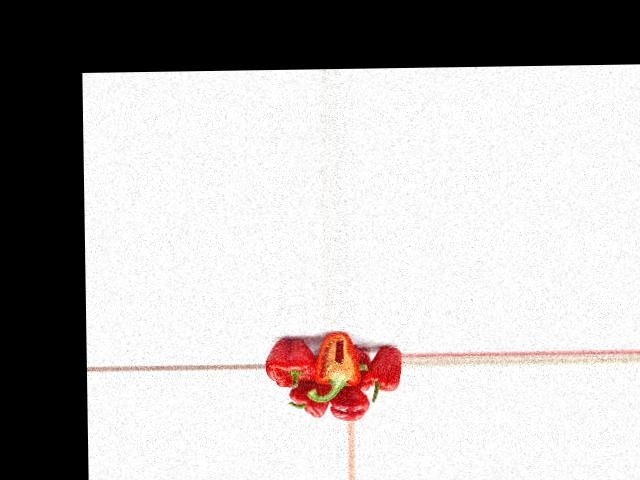bell_pepper: (287, 383, 331, 418)
